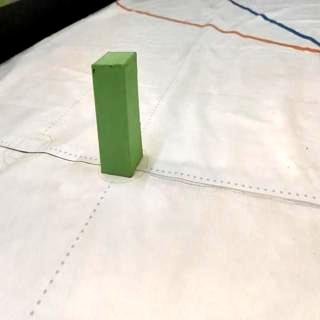greenbox: (92, 50, 144, 178)
